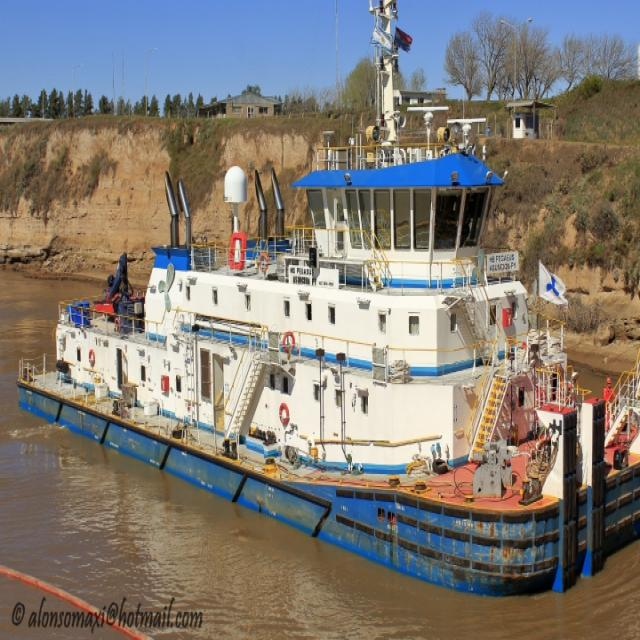tugboat: (12, 100, 640, 610)
